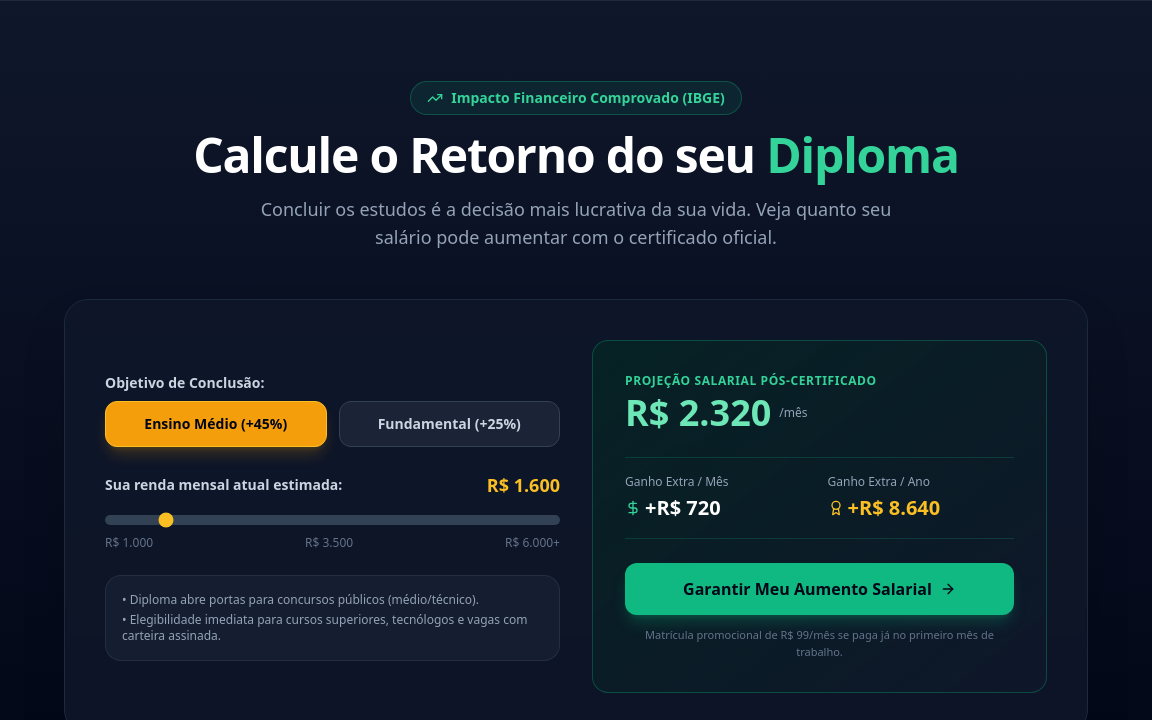
Test: Supletivo Brasil - Suite de Testes Completa › deve interagir com a Calculadora Salarial e calcular projeção
expect the heading "Calcule o Retorno do seu Diploma" is shown: met, box 193,122 -> 959,187
Set the slider to "2500": (245, 520) 105,514 -> 560,524
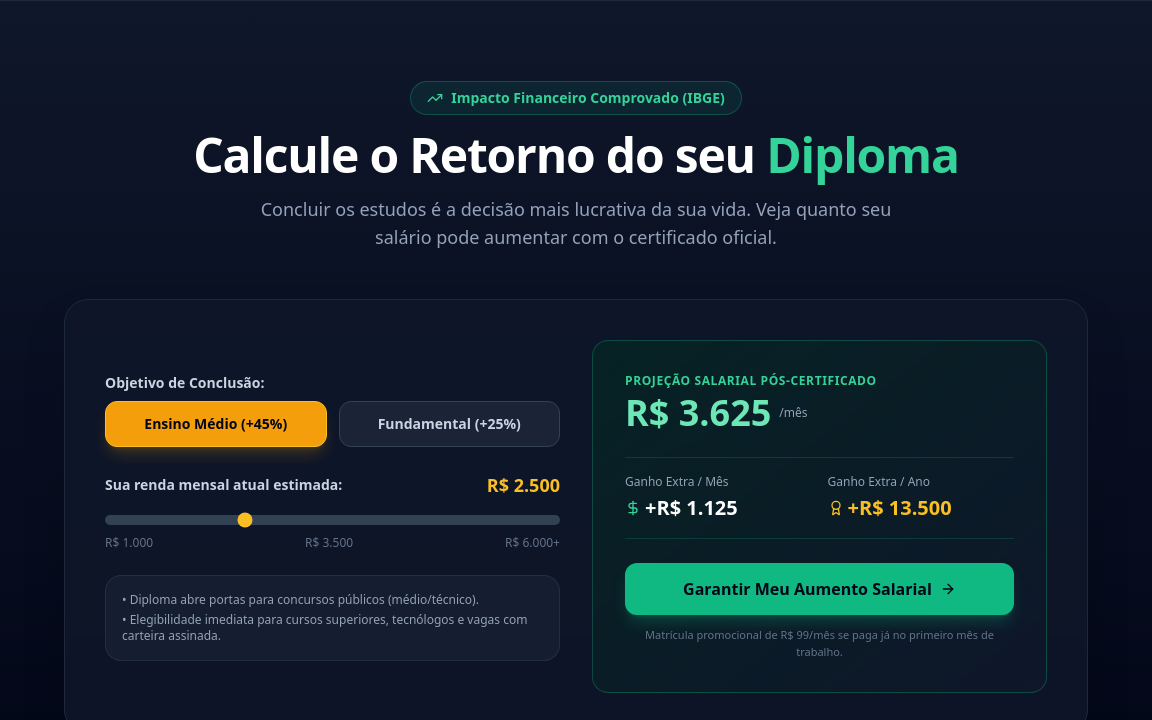
expect the text "R$ 2.500" is shown: met, box 487,470 -> 560,498
